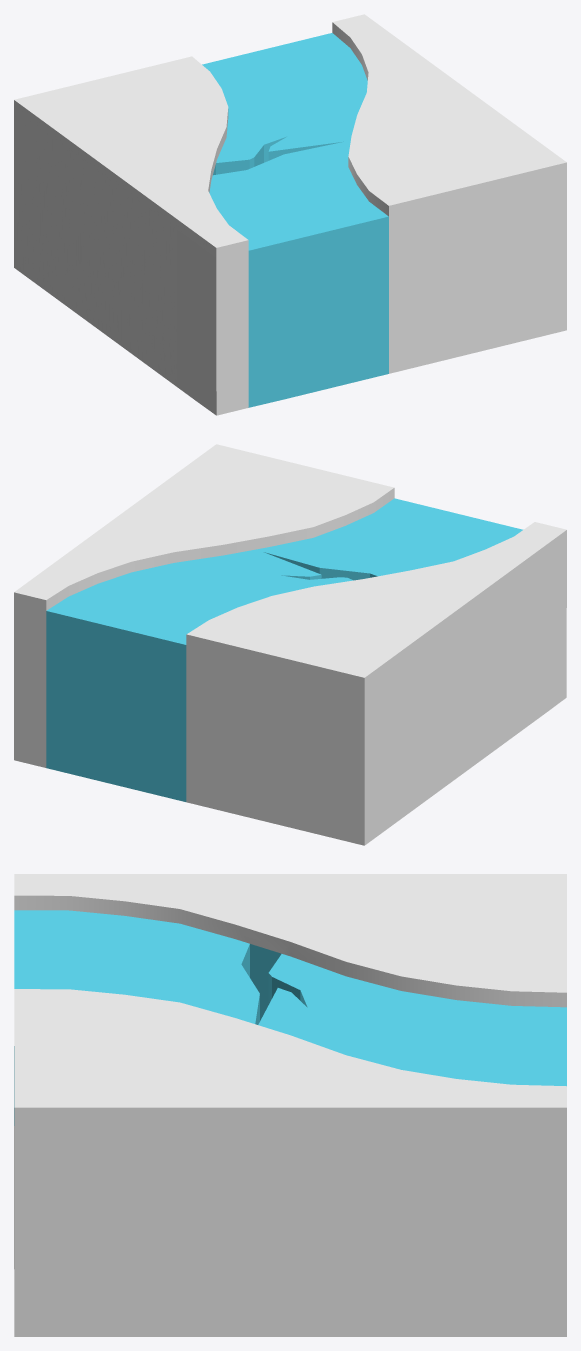
The model's file is sakeme atari5.fbx.
3 renders of one model, top to bottom at view 1: azimuth 30°, elevation 25°; view 2: azimuth 150°, elevation 25°; view 3: azimuth 270°, elevation 25°, orthographic. The views are drawn at different scales.
Visible parts, largest first — view 1: pCube2; view 2: pCube2; view 3: pCube2.
Part boxes in pixels (x1,y1,x2,y2): pCube2: [14, 14, 566, 415]; pCube2: [14, 444, 566, 845]; pCube2: [14, 874, 566, 1336].
Bounding box in the file's own units: 24.03 × 11 × 24.05.
Materials: 1 (1 with a texture image).
